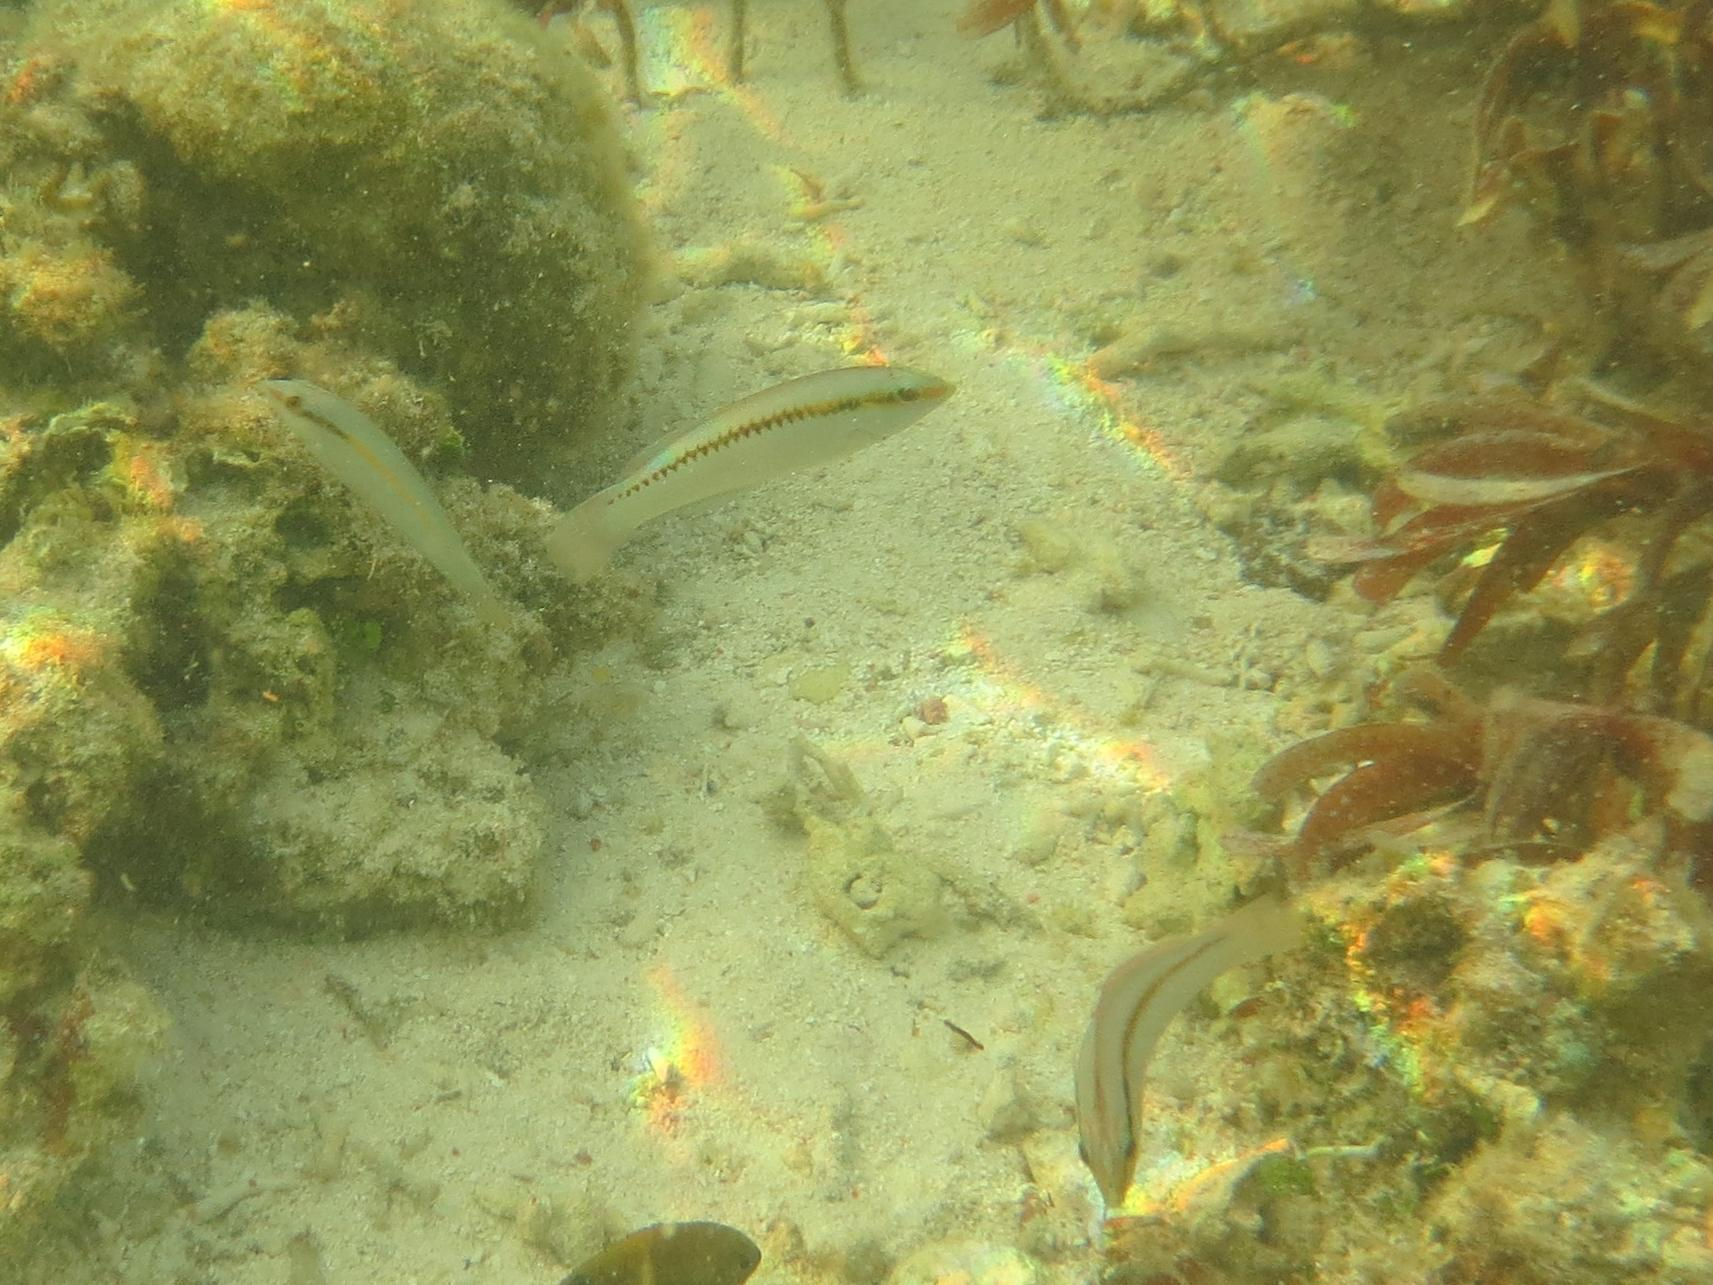Fish: (996, 864, 1324, 1240), (490, 328, 1010, 562), (229, 352, 558, 711)
